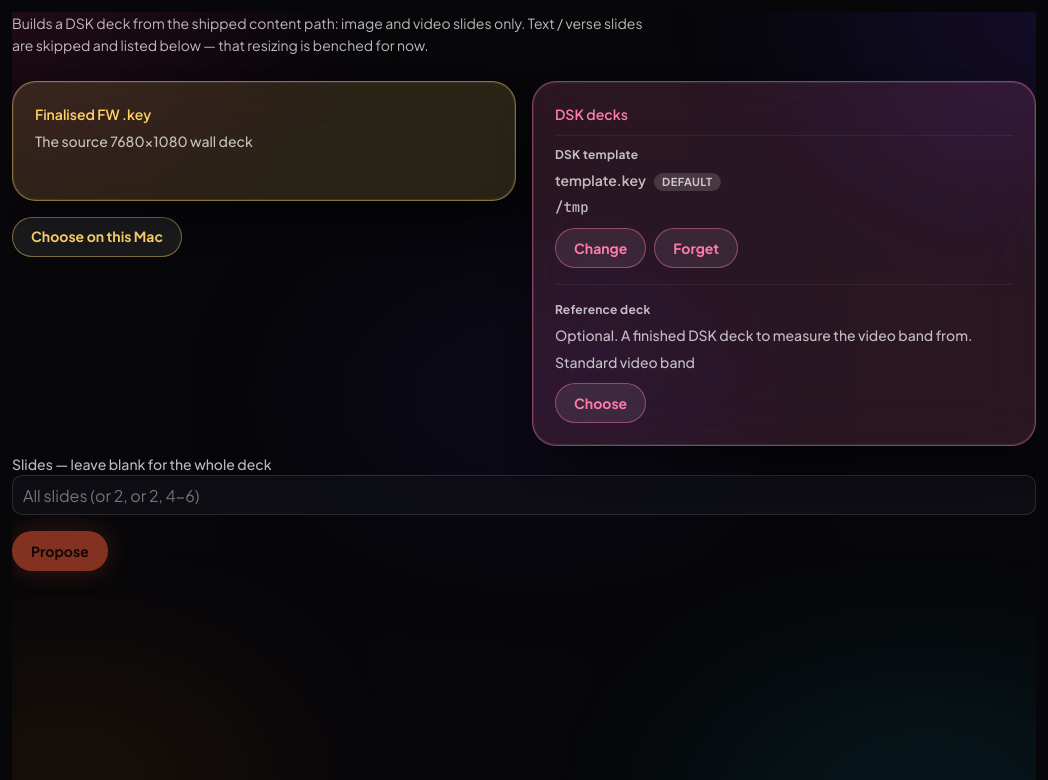
Scenario: DskGenerator DSK template › Forget returns the row to the optional state and keeps Propose enabled
Click the button with aria-label "Forget DSK template". click: (696, 248)
box: top-left (654, 228), bottom-right (738, 268)
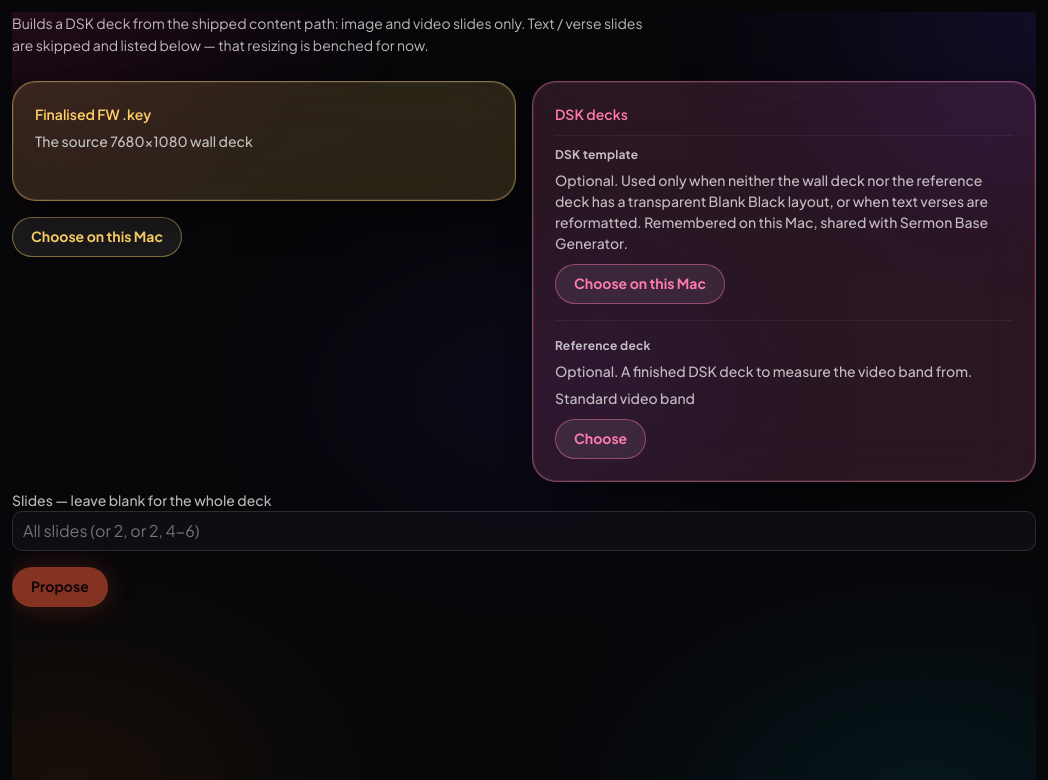
Click the button "Choose on this Mac" below "The source 7680×1080 wall deck". click: (97, 237)
box: top-left (12, 217), bottom-right (182, 257)
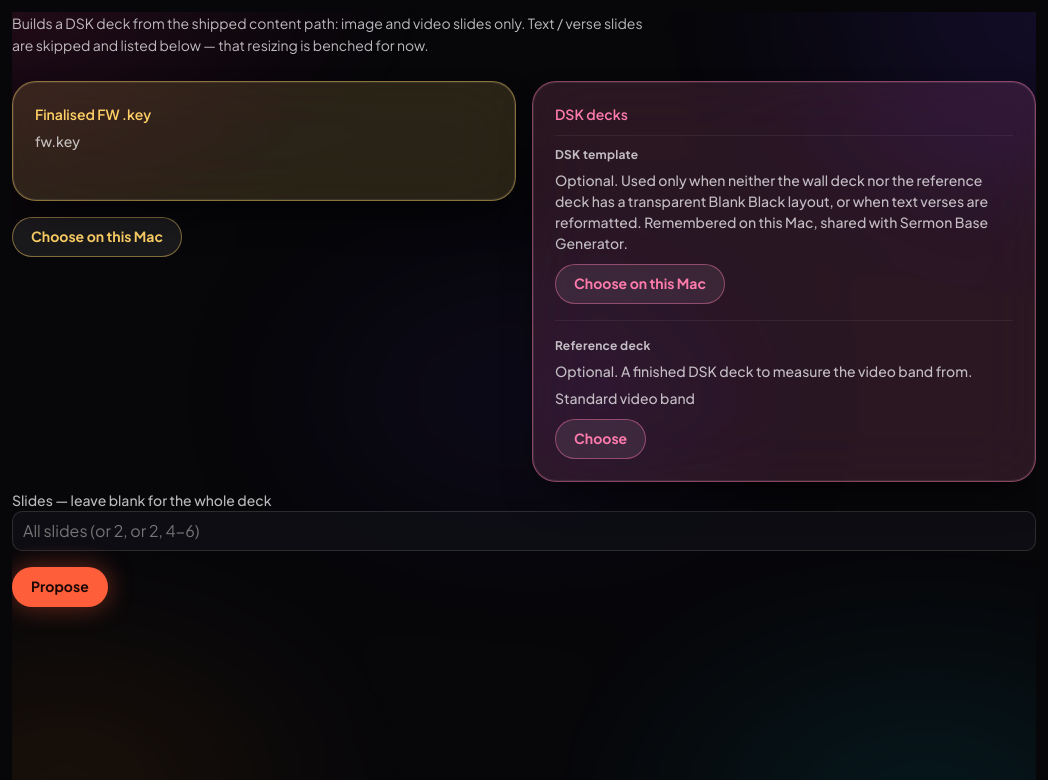
Now the button "Choose on this Mac" below "DSK template" is shown, box top-left (555, 264), bottom-right (725, 304)
Now the button "Propose" is enabled, box top-left (12, 567), bottom-right (108, 607)
